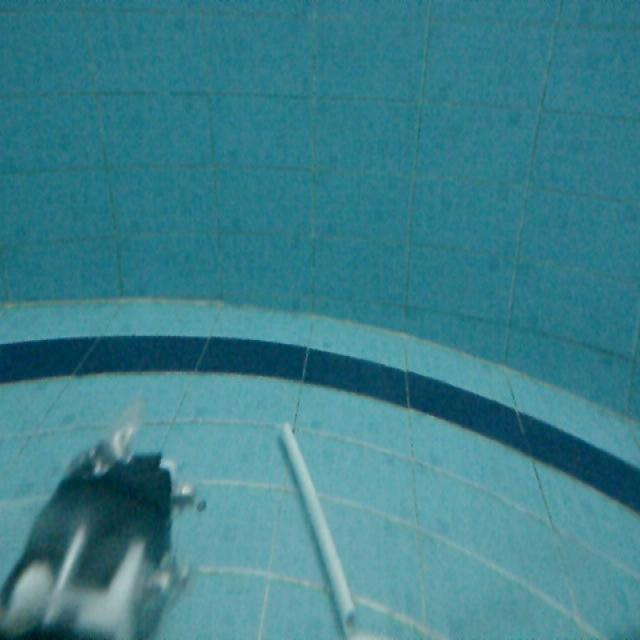Cube: (279, 421, 362, 632)
